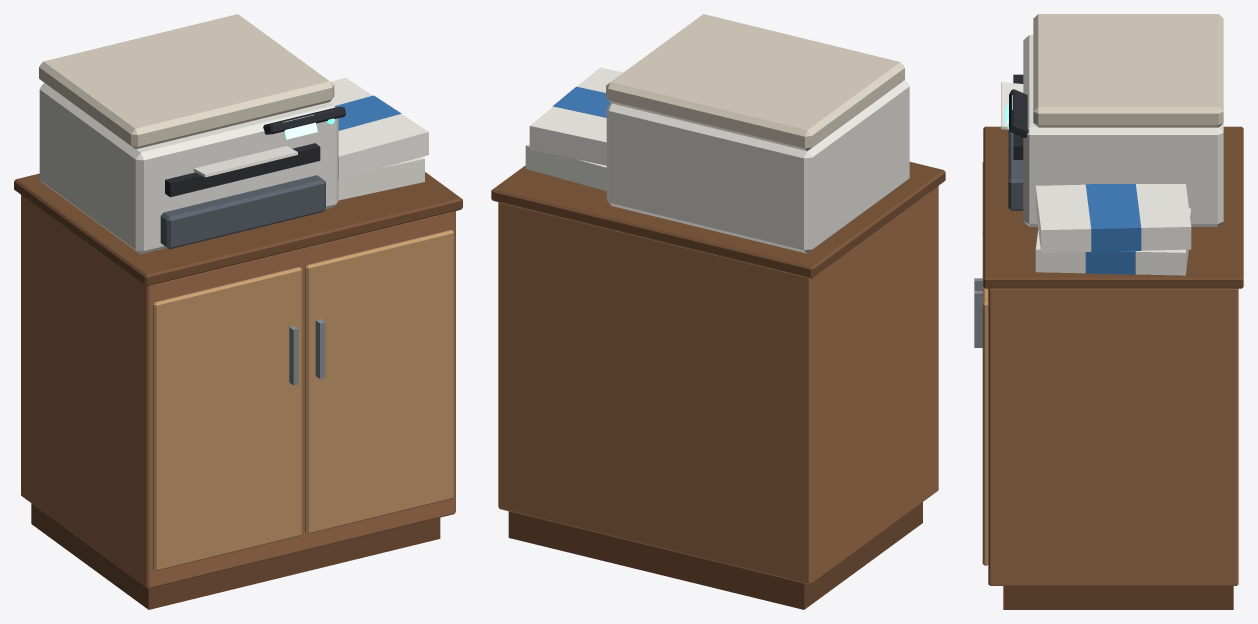
Rendered from printer_station.glb.
The picture shows the model from 3 angles, left to right: view 1: azimuth 30°, elevation 25°; view 2: azimuth 150°, elevation 25°; view 3: azimuth 270°, elevation 25°; orthographic projection. The views are drawn at different scales.
Parts seen in each view (by area): view 1: PrinterStation; view 2: PrinterStation; view 3: PrinterStation.
Part boxes in pixels (x1=…): PrinterStation: x1=14, y1=14, x2=462, y2=609; PrinterStation: x1=491, y1=14, x2=945, y2=609; PrinterStation: x1=974, y1=14, x2=1243, y2=609.
Size of the model in its own units: 0.72 by 1.01 by 0.538.
